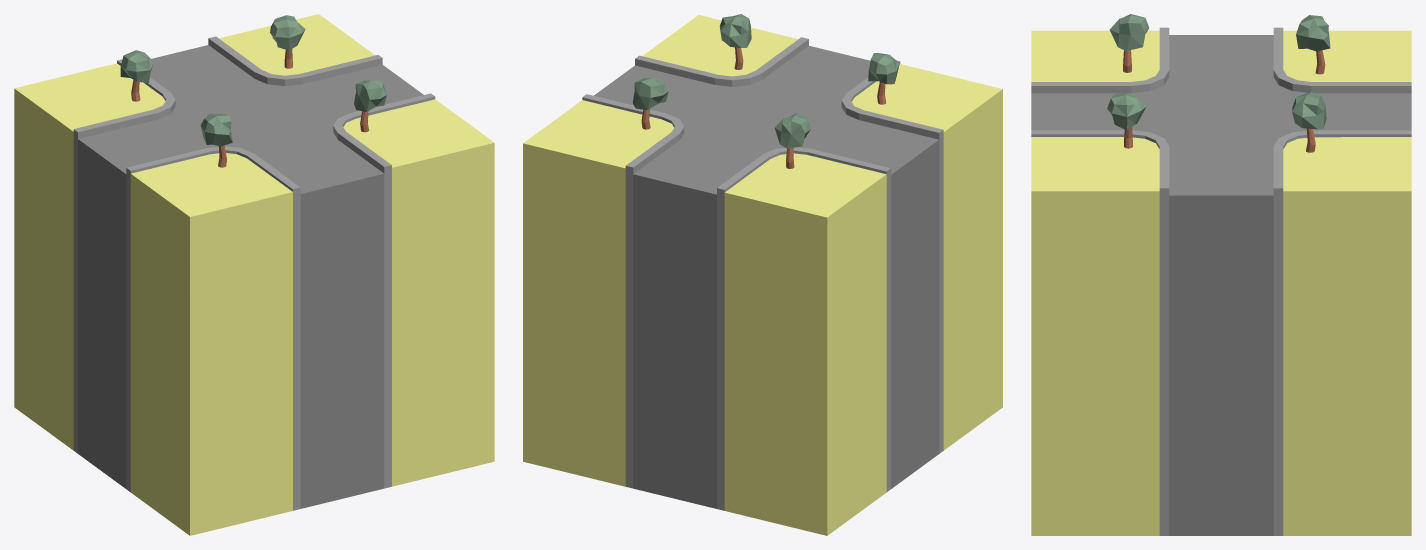
File: City_tile_02.fbx
3 views of the same model, side by side, from view 1: azimuth 30°, elevation 25°; view 2: azimuth 150°, elevation 25°; view 3: azimuth 270°, elevation 25° (orthographic). The views are drawn at different scales.
Visible parts, largest first — view 1: City_tile_02; view 2: City_tile_02; view 3: City_tile_02.
Part boxes in pixels (x1=…): City_tile_02: x1=14, y1=14, x2=494, y2=535; City_tile_02: x1=523, y1=14, x2=1002, y2=535; City_tile_02: x1=1031, y1=14, x2=1411, y2=535.
Size of the model in its own units: 100 by 116 by 100.
